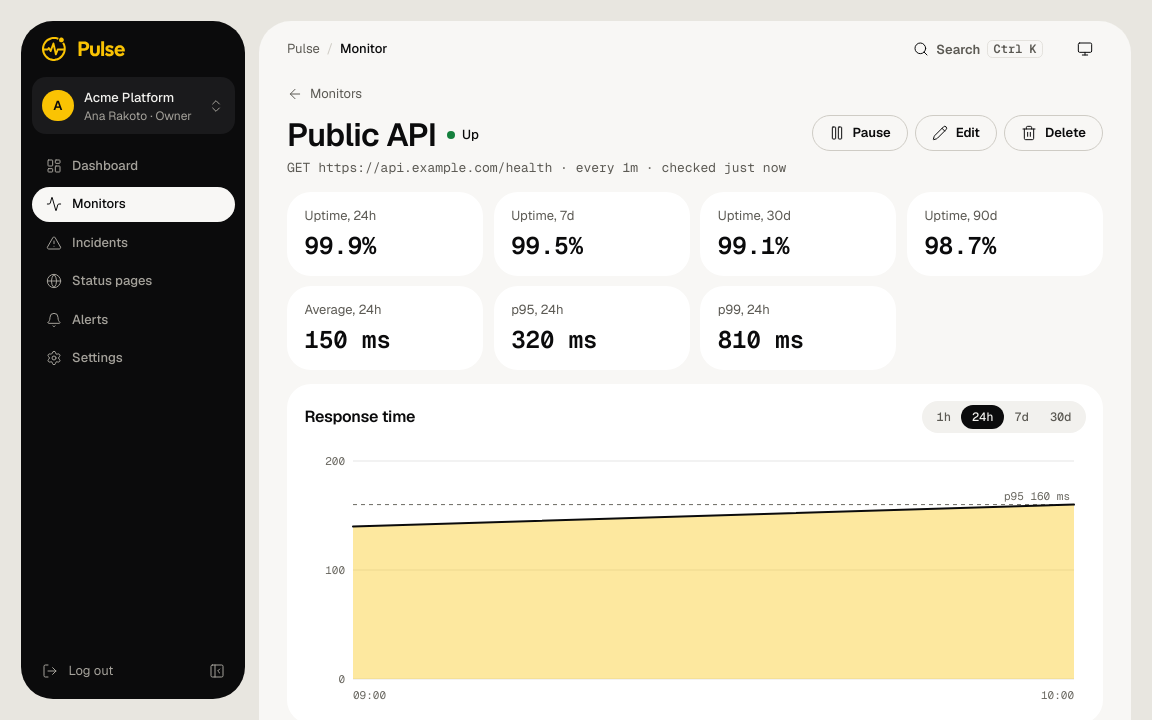
it: Monitor detail (signed in) › edits a monitor with its current values filled in
This screenshot has width=1152, height=720.
Click the button "Edit" at (956, 132), box [915,114,997,150]
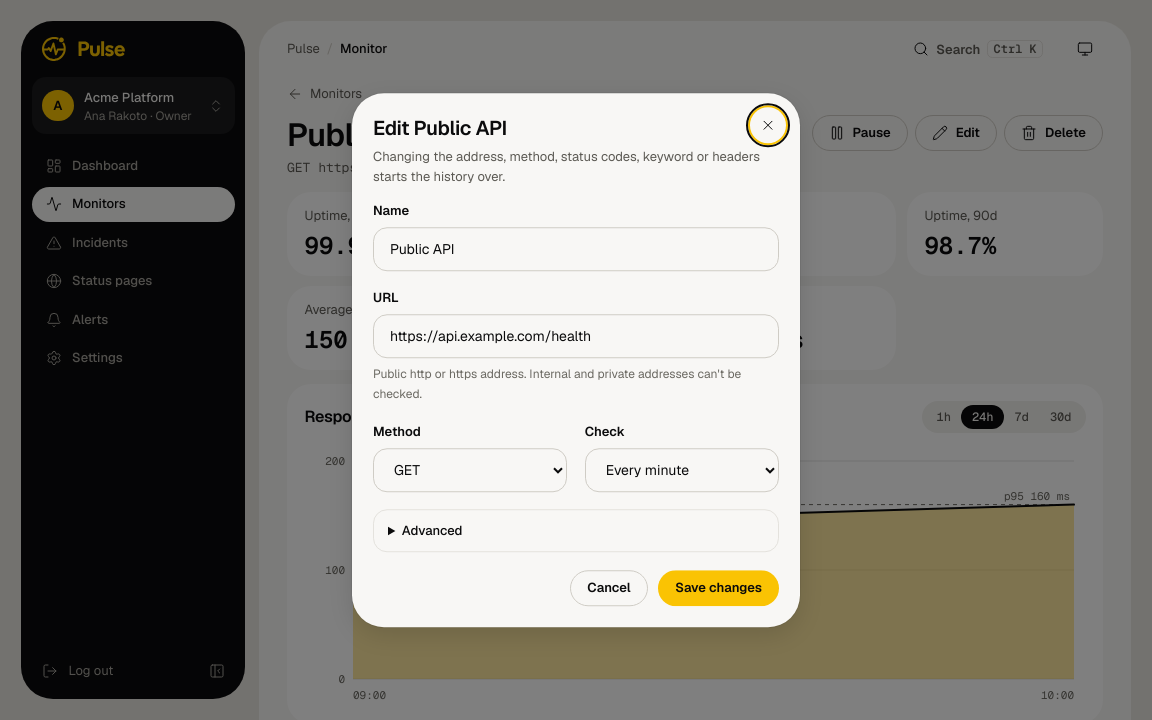
expect the field labelled "Name" holds "Public API": met
expect the field labelled "URL" holds "https://api.example.com/health": met, box [373,314,779,358]
Replace the text in the field labelled "Name" with "Public API v2" at (576, 249), box [373,227,779,271]
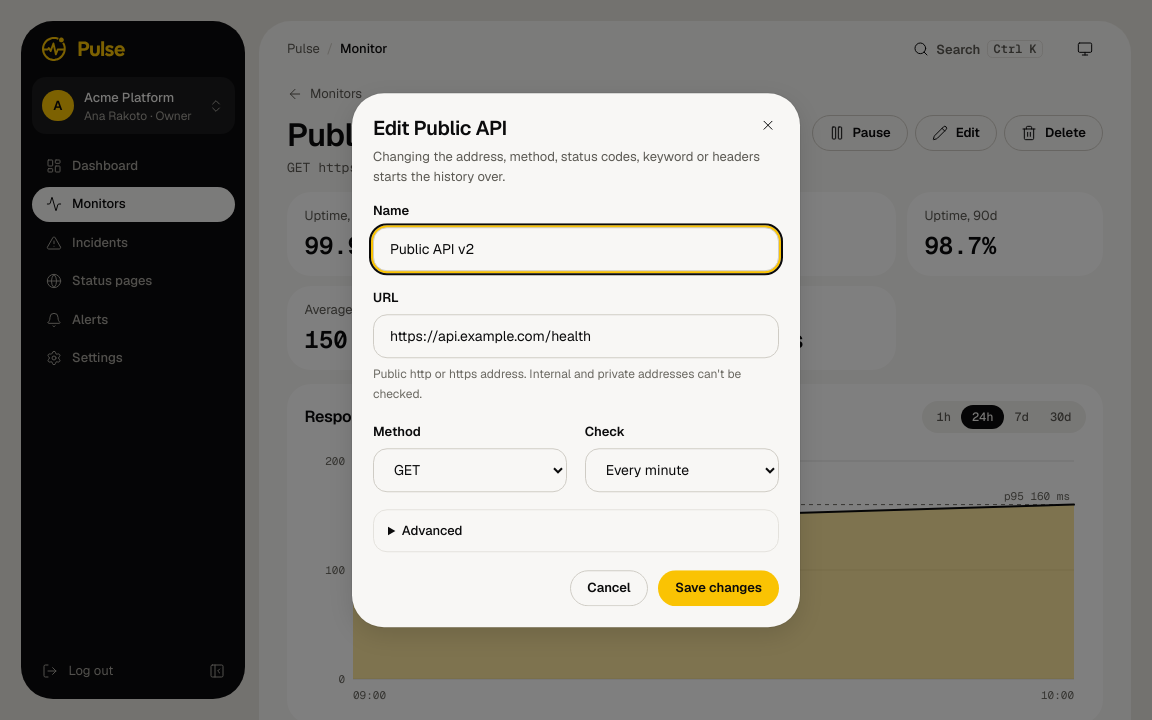
Click the button "Save changes" at (719, 588), box [658,570,779,606]
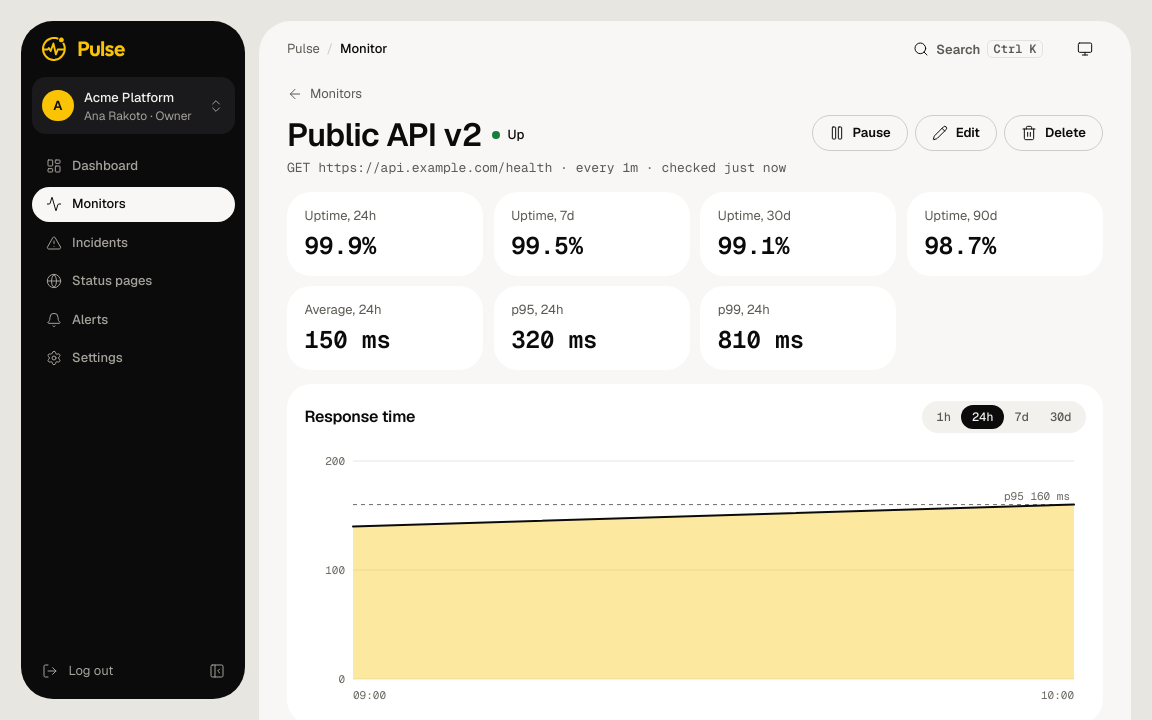
expect the heading "Public API v2" is shown: met, box [287,114,482,154]
